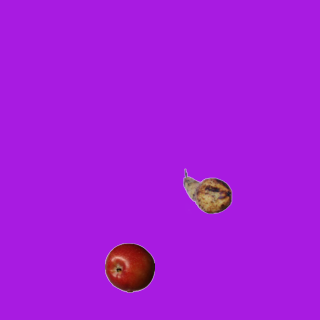Apple Braeburn: (104, 242, 154, 292)
Pear Abate: (182, 166, 232, 216)
